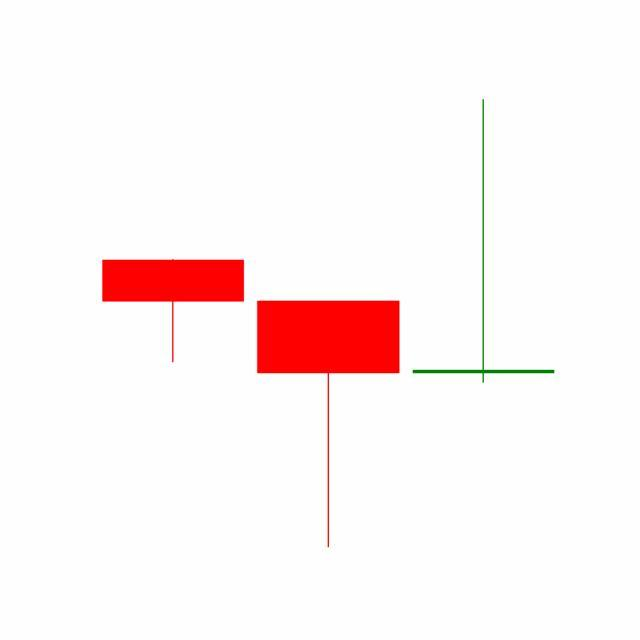Gravestone Doji: (406, 97, 562, 388)
